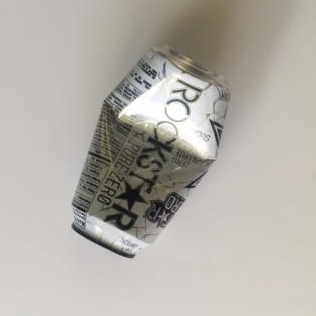Metal: (47, 23, 226, 274)
